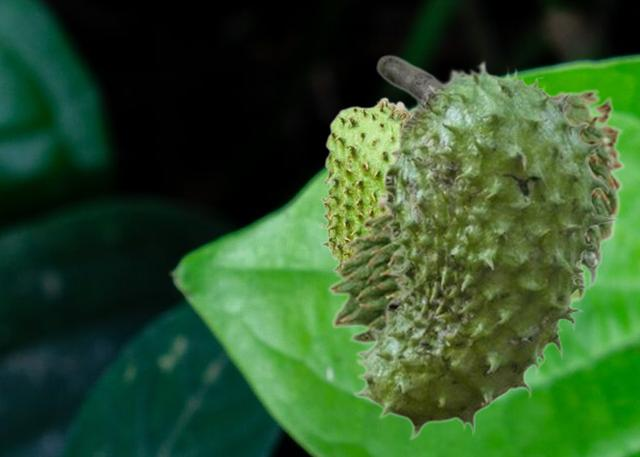guyabano: (351, 54, 618, 440), (326, 84, 625, 347), (318, 96, 409, 272)
